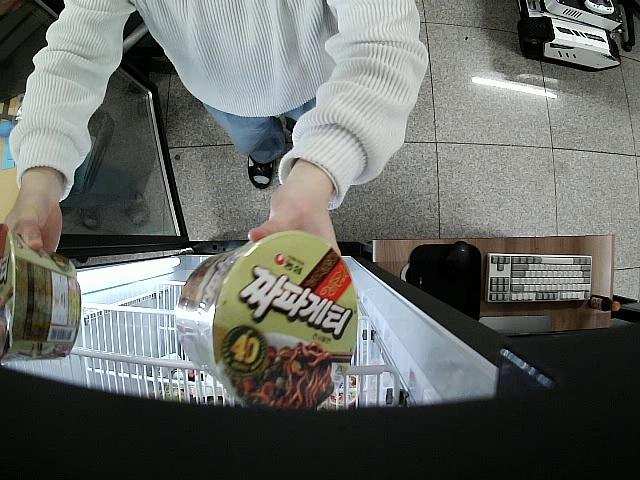00_hand: (247, 185, 342, 260), (3, 195, 63, 254)
03_chapagetti_L: (173, 231, 358, 414), (0, 223, 81, 365)
